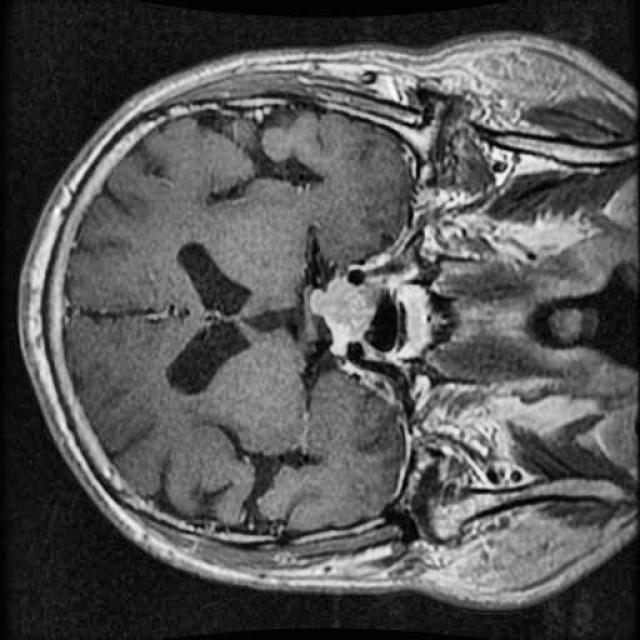Tumor: (301, 256, 382, 352)
